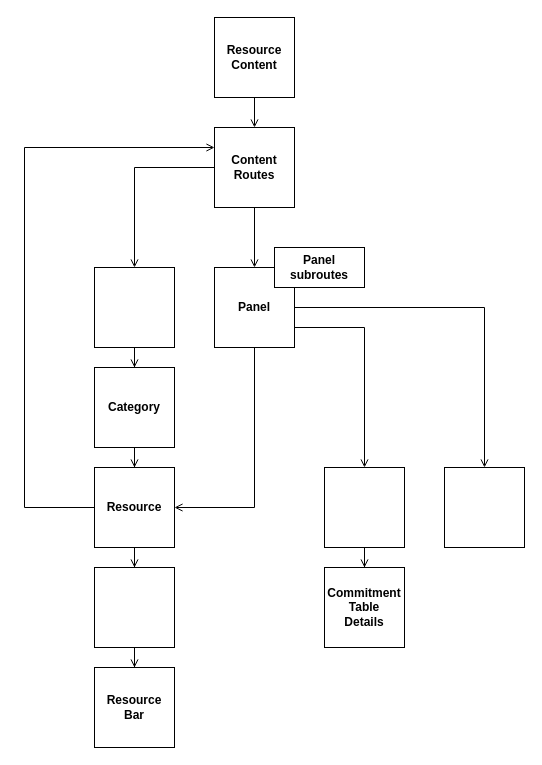
The diagram is 542 pixels wide and 765 high, and some of its shapes have lost their labels. The centre of each missing label's shape, as x and y in pixels:
Commitment Table: the point at 364,507
Modals: the point at 484,507
Overview: the point at 134,307
Resource BarBuilder: the point at 134,607
